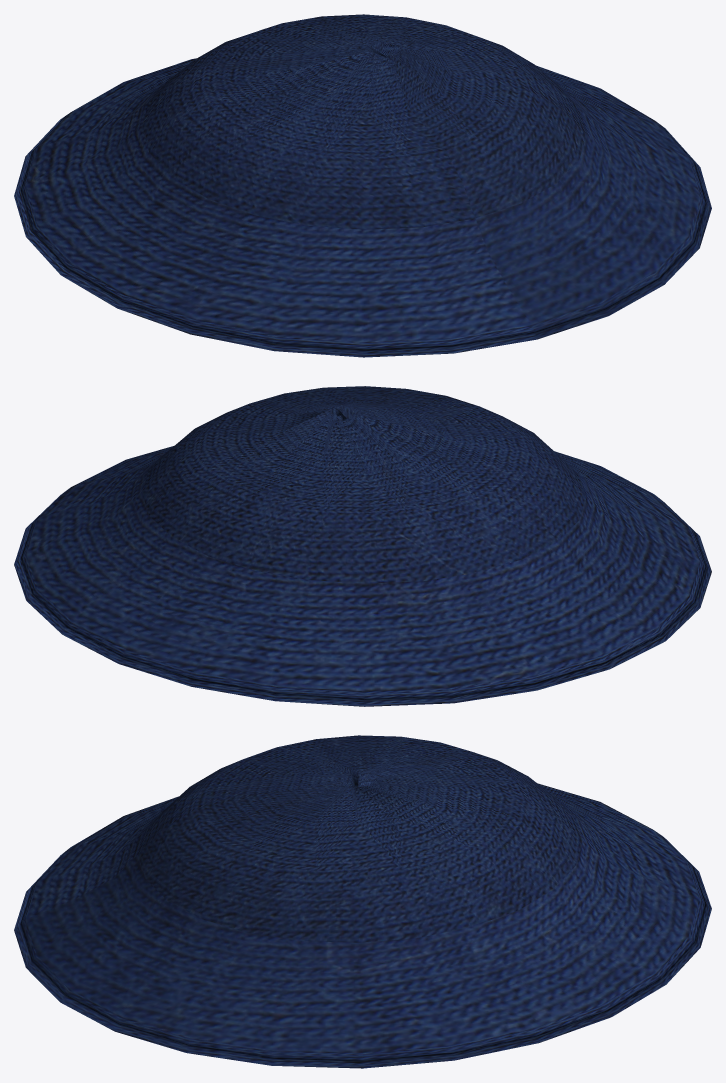
The model's file is capfinal.fbx.
3 views of the same model, one above another, from view 1: azimuth 30°, elevation 25°; view 2: azimuth 150°, elevation 25°; view 3: azimuth 270°, elevation 25° (orthographic).
Visible parts, largest first — view 1: nurbsToPoly4; view 2: nurbsToPoly4; view 3: nurbsToPoly4.
Part boxes in pixels (x1,y1,x2,y2): nurbsToPoly4: (14, 14, 711, 357); nurbsToPoly4: (14, 386, 711, 706); nurbsToPoly4: (14, 735, 711, 1068).
Bounding box in the file's own units: 5.14 × 1.3 × 5.13.
